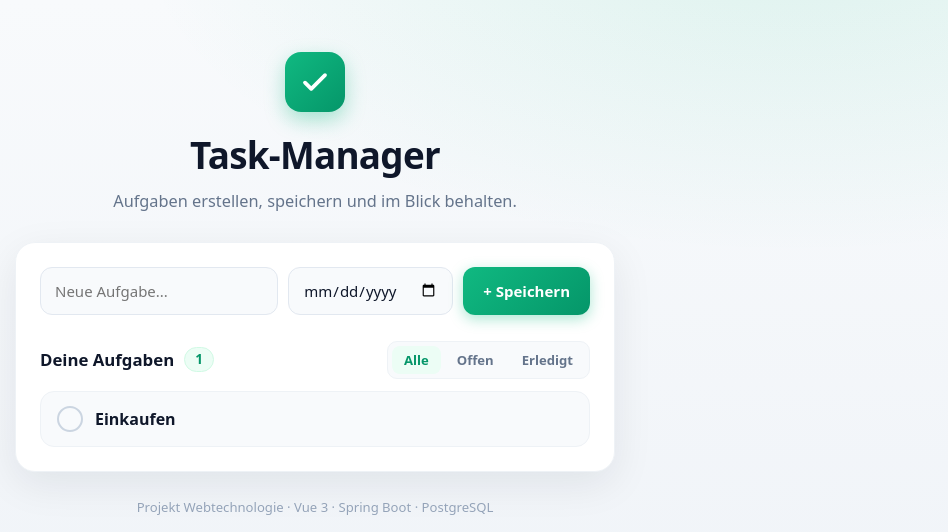
TaskList › hakt eine Aufgabe ueber den Kreis ab und zeigt sie durchgestrichen
The image size is (948, 532).
Click the button with class "bullet". click: (70, 419)
box: [57, 406, 83, 432]
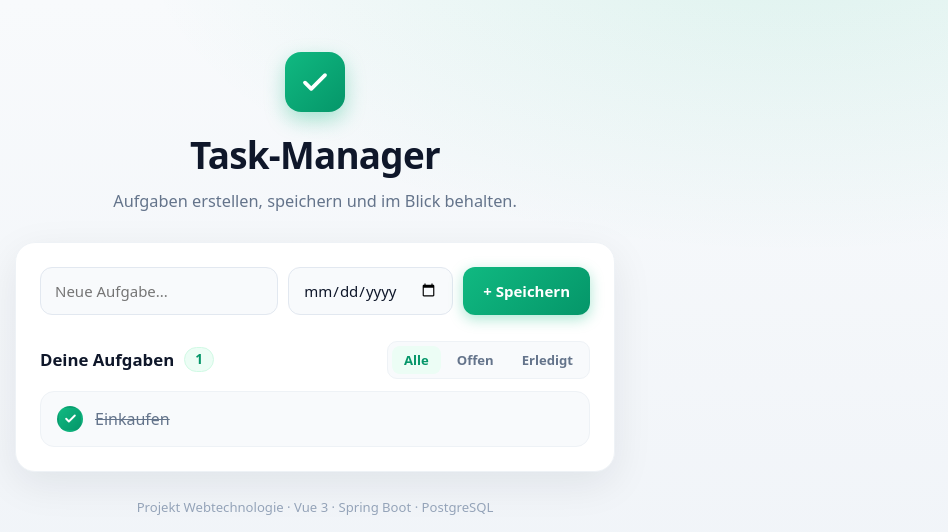
Now the text "Einkaufen" is shown, box [95, 408, 170, 430]
